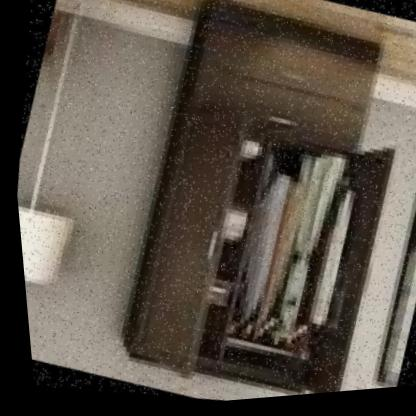Closet: (73, 0, 416, 411)
